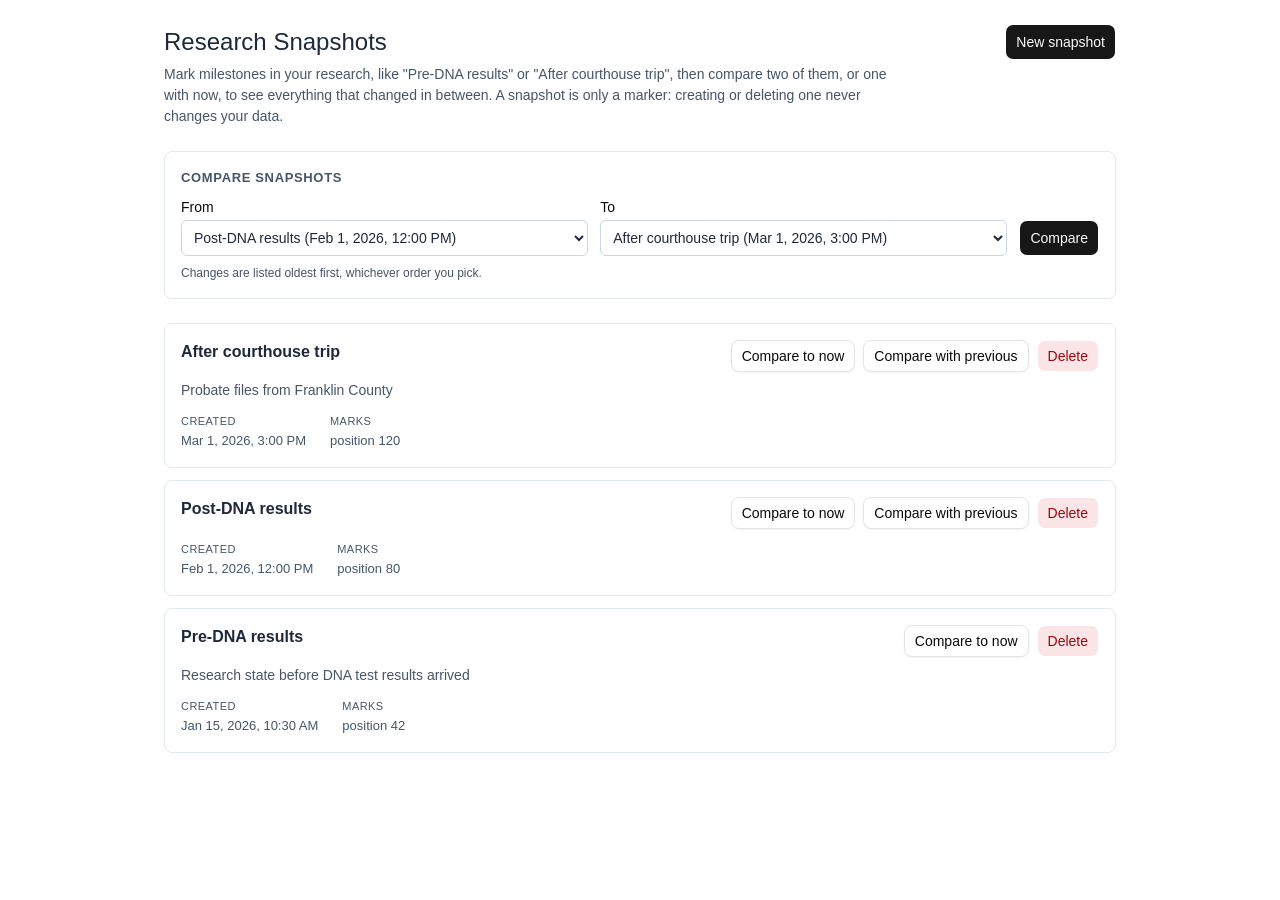
Scenario: Snapshots page › create › keeps the dialog open and shows a server validation error
Check: the heading "Pre-DNA results" is shown, box [181,624,303,648]
Click the button "New snapshot": (1061, 42) [1005,24,1116,60]
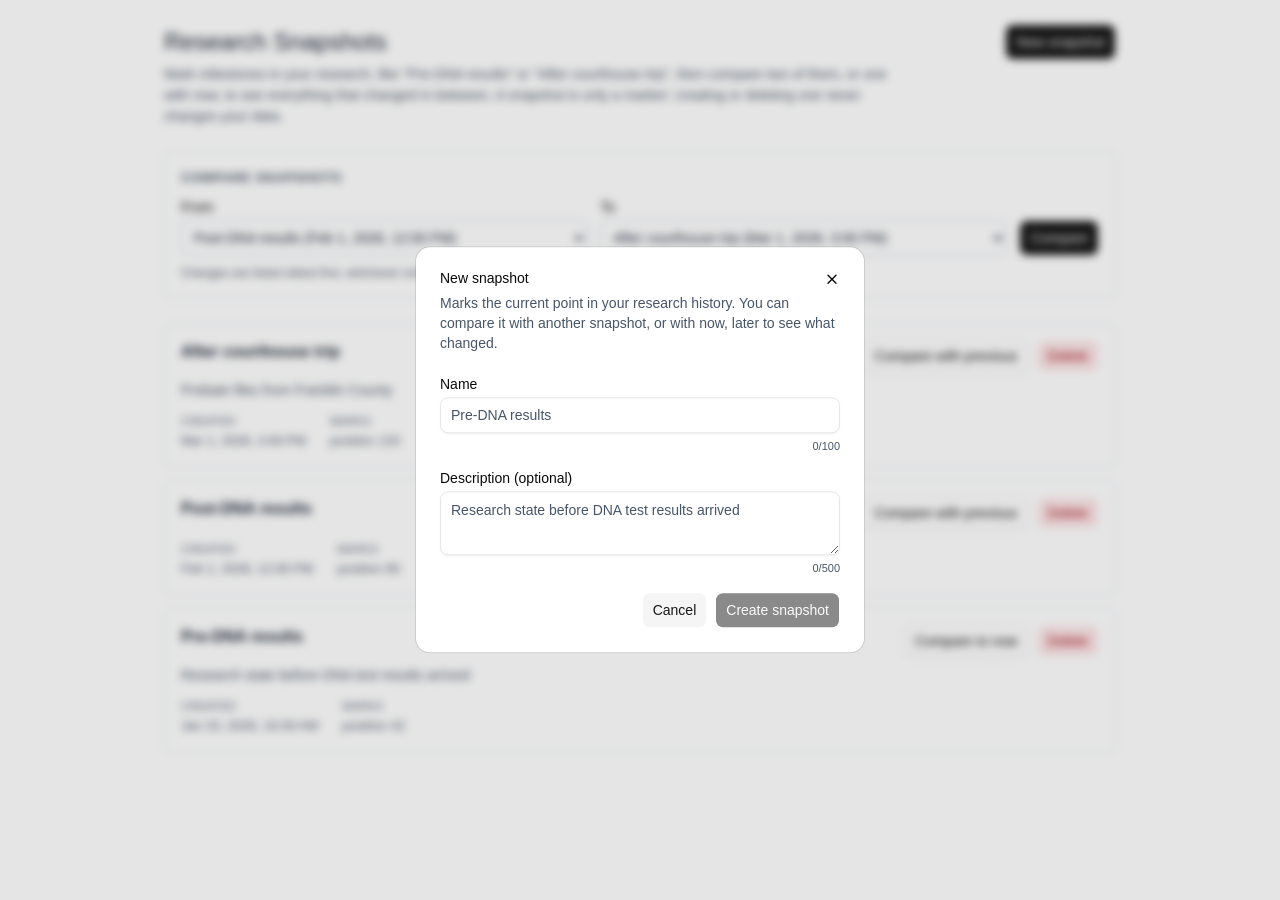
In the field labelled "Name": (640, 415) [440,397,840,433], type "Milestone"
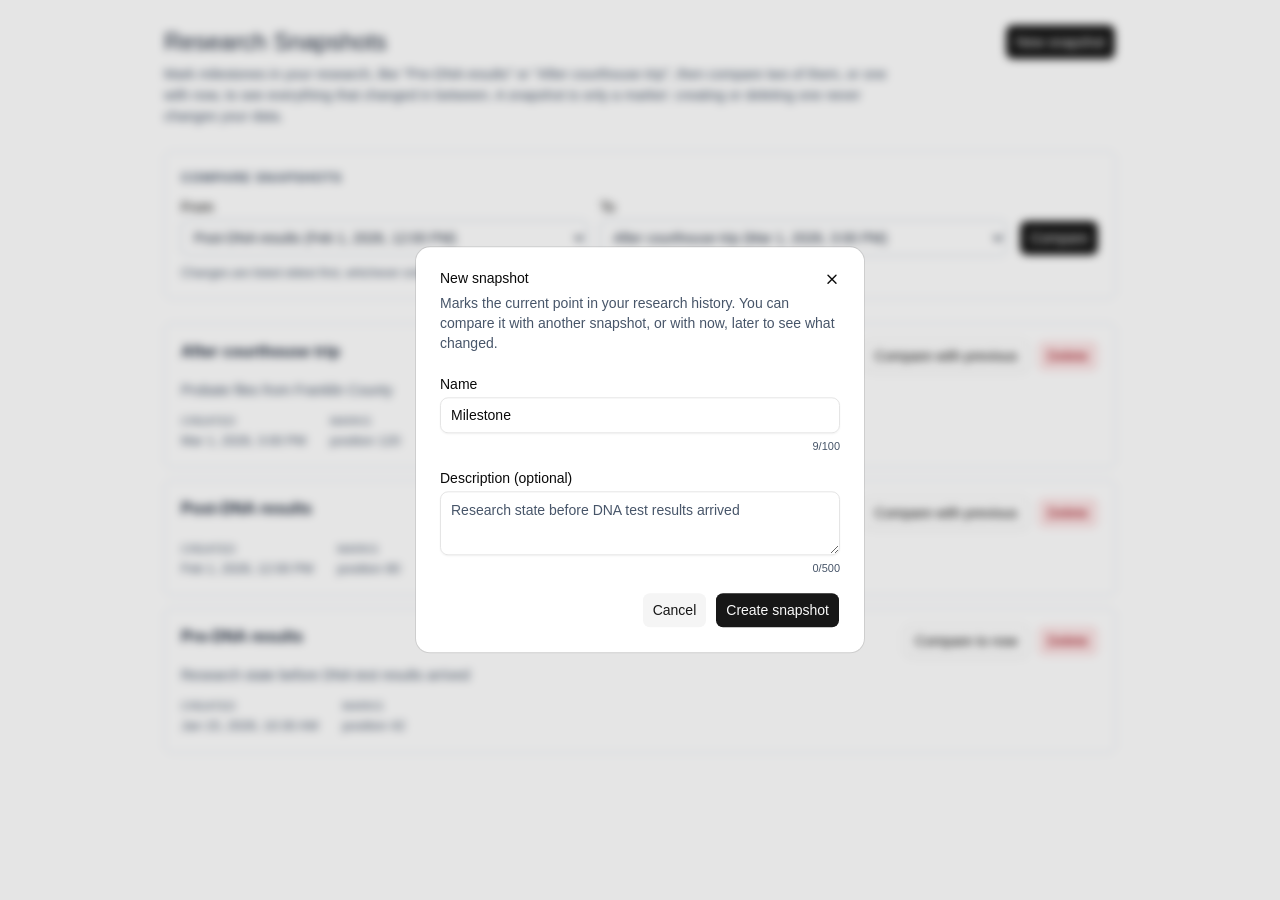
Click the button "Create snapshot": (778, 611) [715,593,840,629]
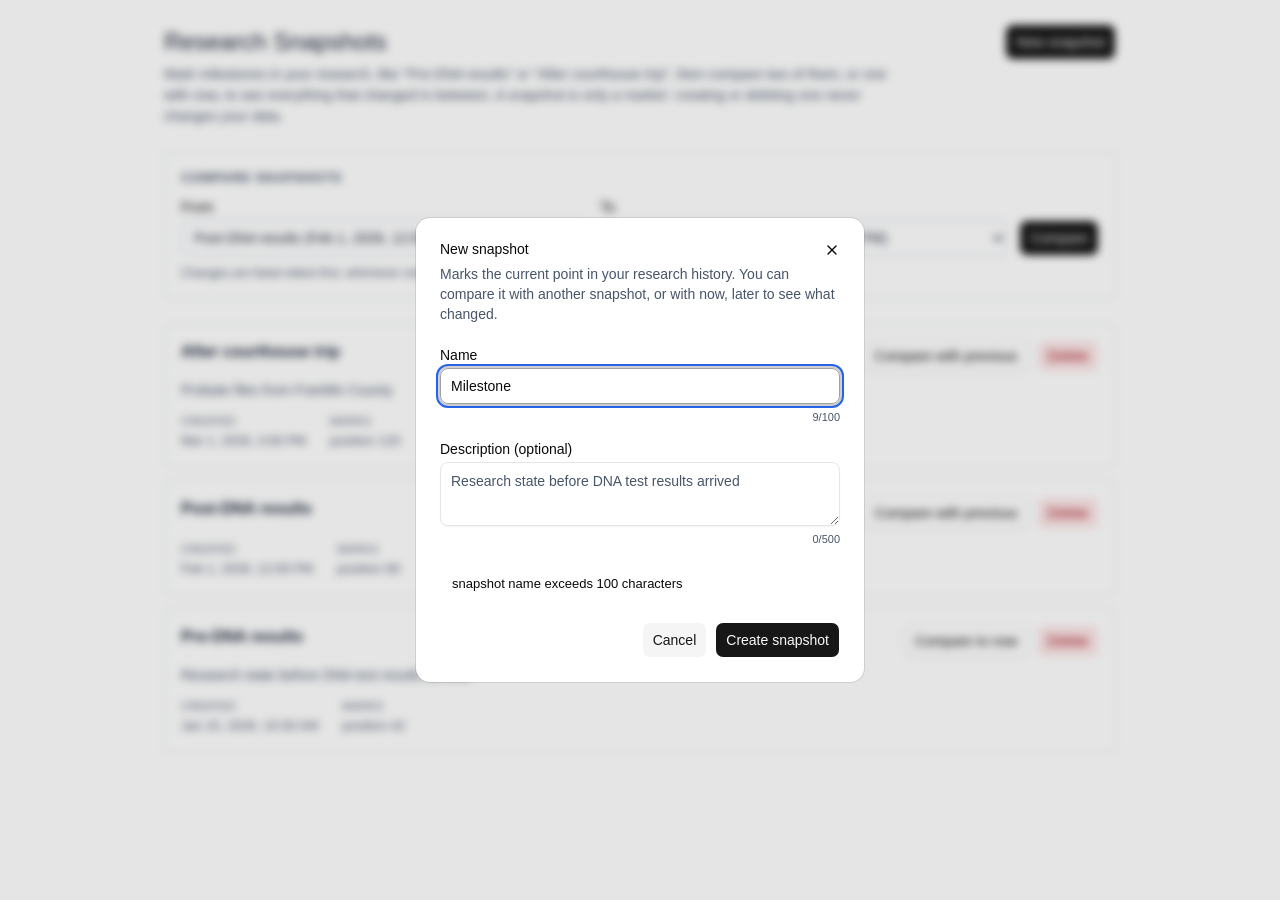
Check: the text "snapshot name exceeds 100 characters" is shown, box [452,576,682,591]
